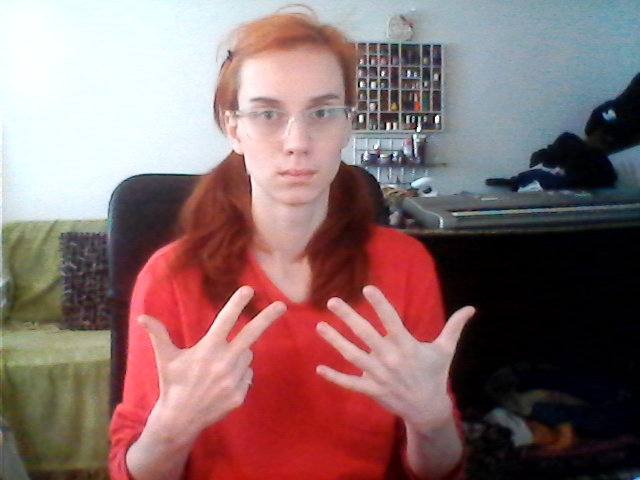osem: (131, 281, 482, 417)
